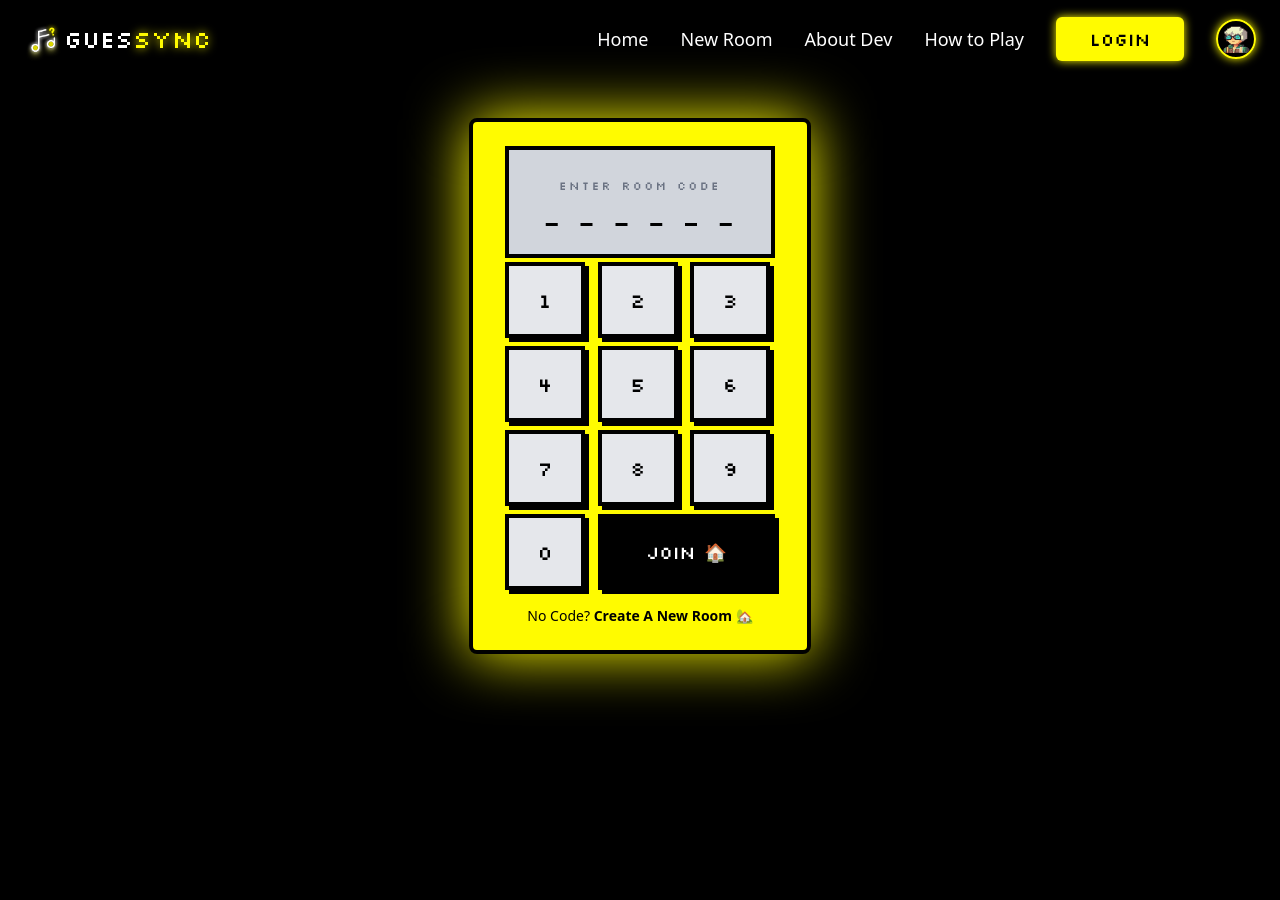
JoinRoom Page › 2. Displays typed number on button click
Click the button "5" at [638, 384], box x1=598 y1=346 x2=678 y2=422
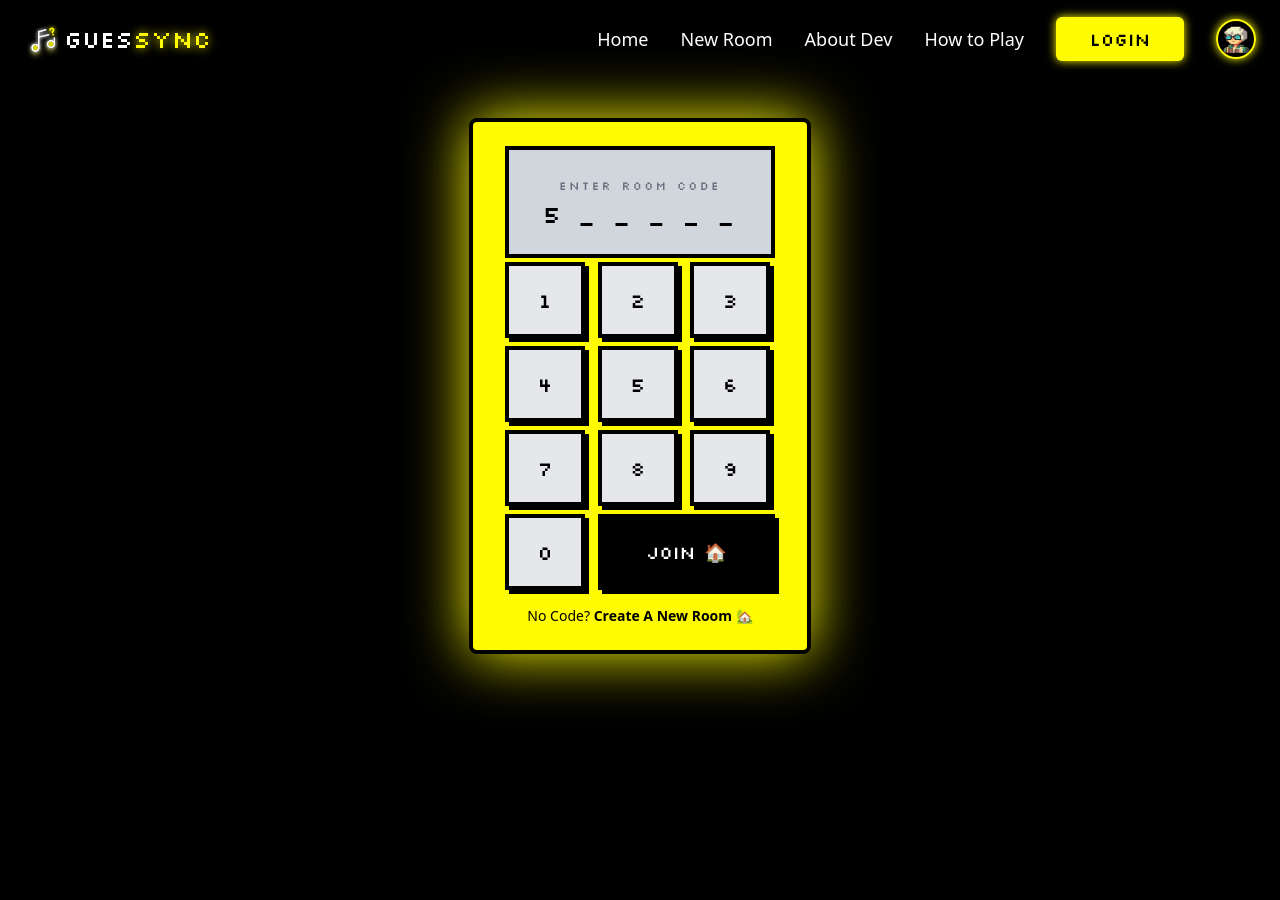
Expected: the text "5 _ _ _ _ _" is shown, x1=533 y1=198 x2=747 y2=230
